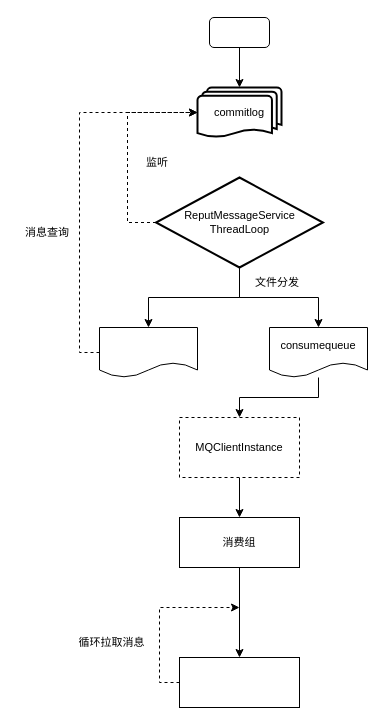
Some shapes in this 385 by 725 pixel diagram are drawn without their labels. The shapes that lost their labels are listed below. From the top down, each one's centre as x and y in pixels, then its label:
At (x=239, y=32): "发送".
At (x=148, y=352): "index".
At (x=239, y=682): "PullMessageService ThreadLoop".
